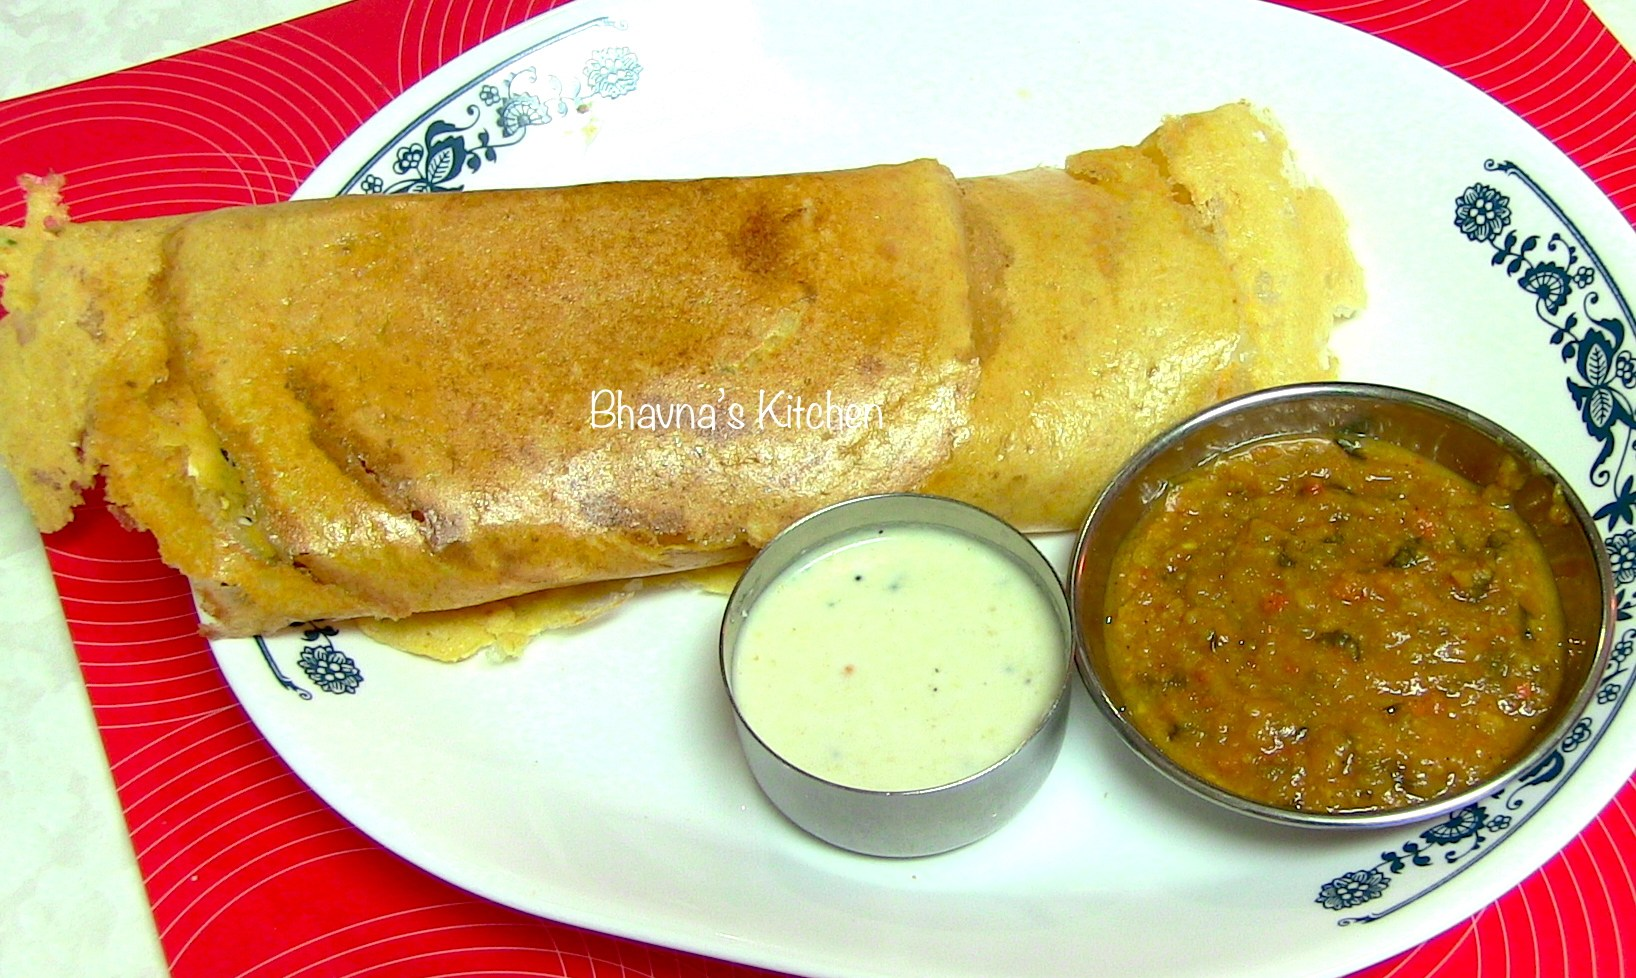dosa: (3, 99, 1367, 653)
